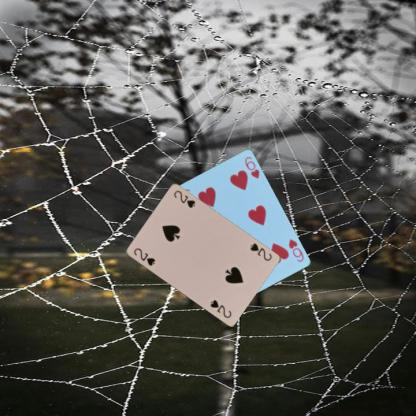2s: (247, 240, 273, 262), (131, 245, 156, 267)
6h: (286, 236, 304, 263)
